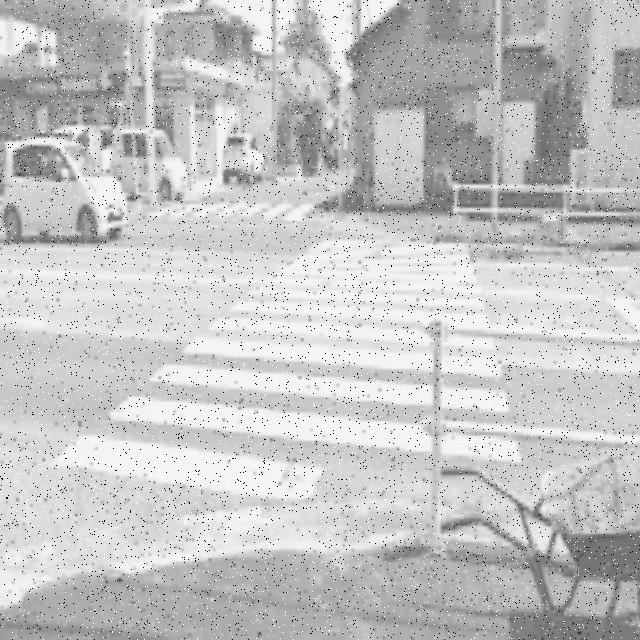crosswalk: (71, 233, 523, 499), (133, 193, 322, 236)
